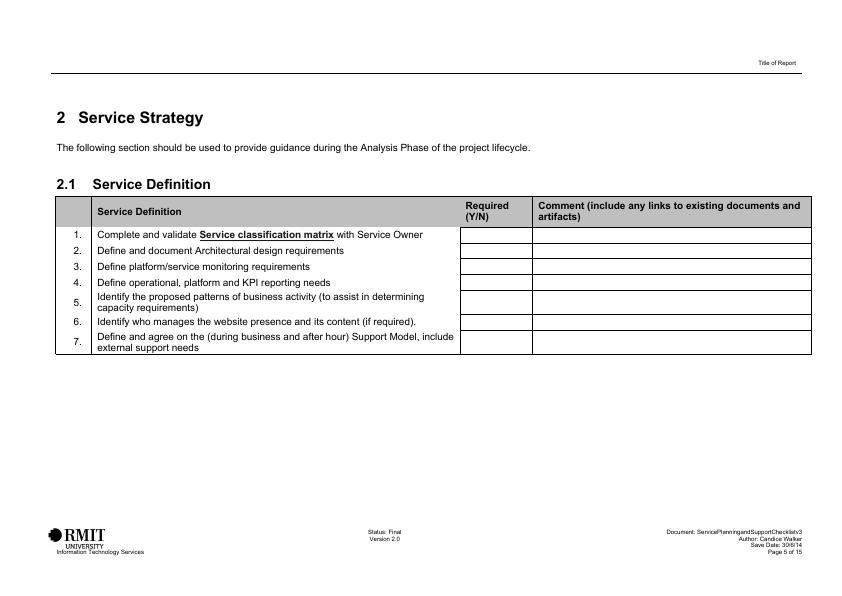table: (51, 195, 817, 360)
text: (54, 107, 534, 161), (664, 526, 810, 558), (54, 177, 212, 192), (364, 527, 408, 544)
